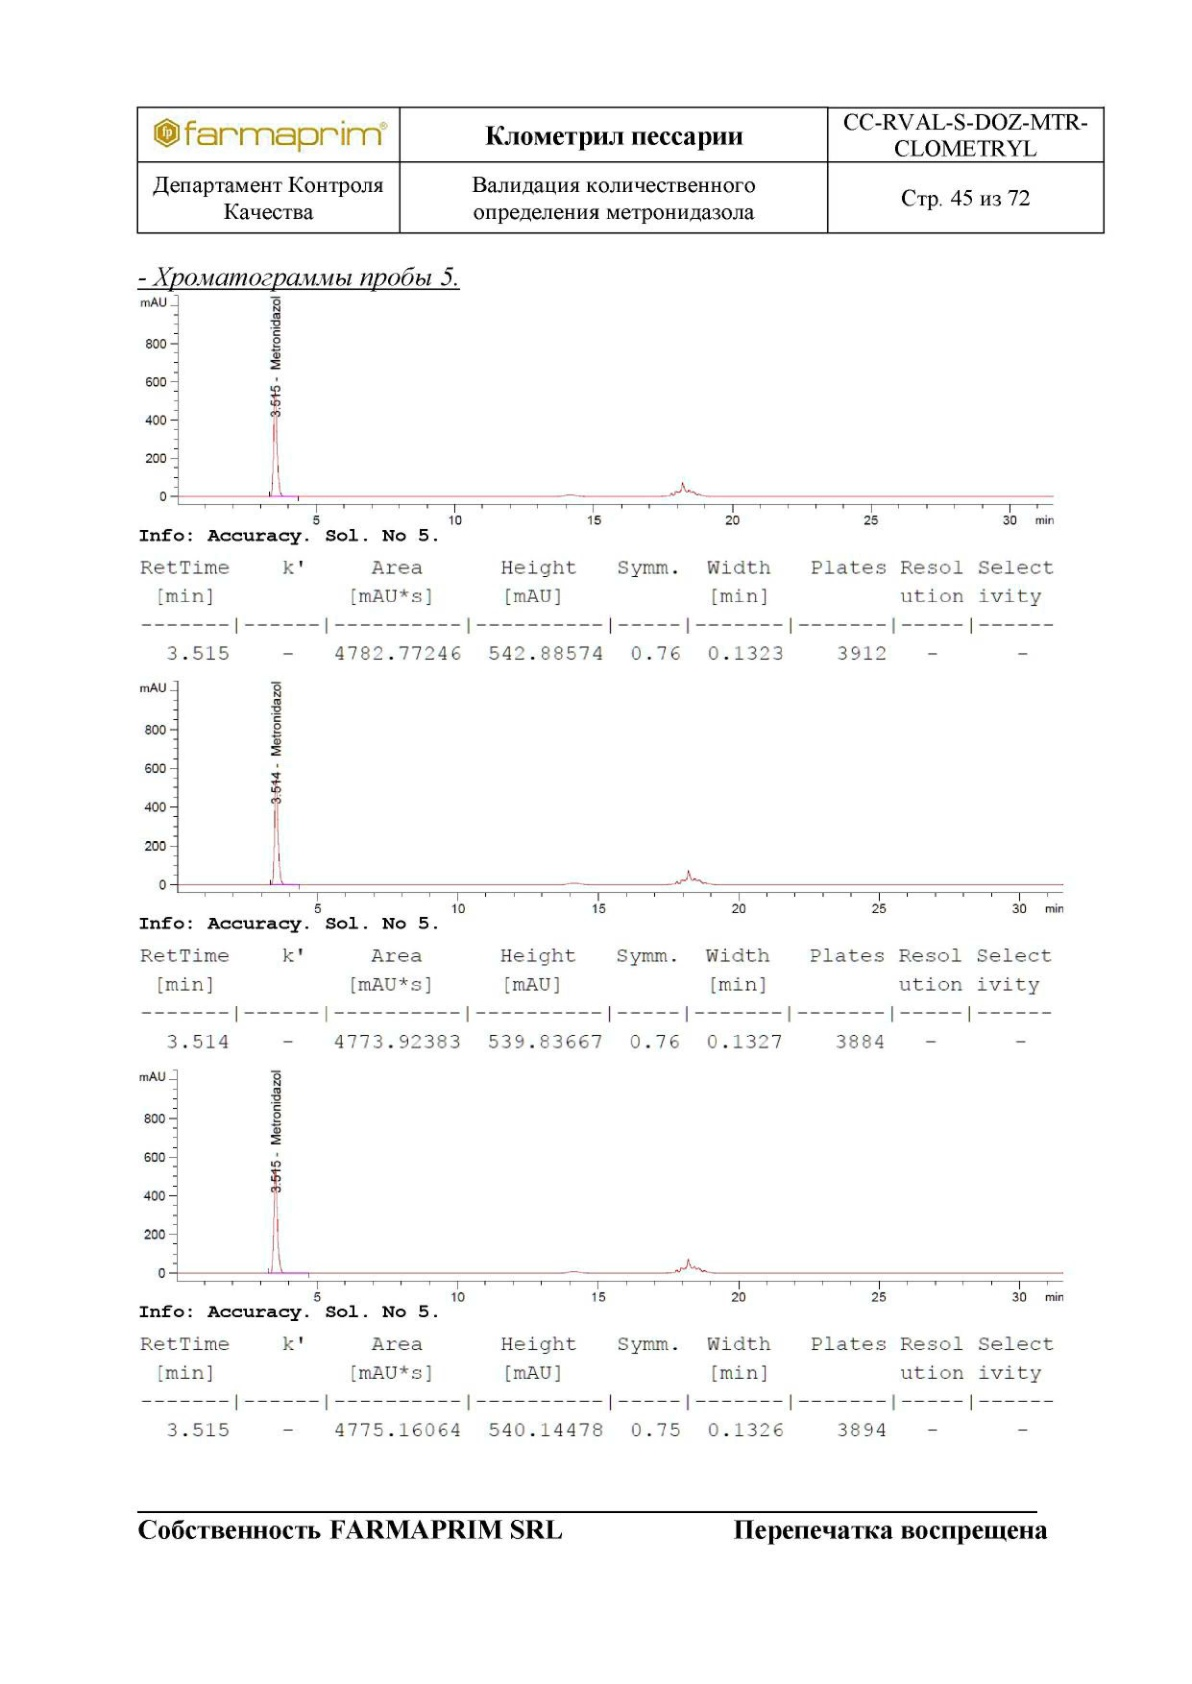full_lined: (135, 106, 1106, 235)
partial_lined: (135, 1331, 1059, 1460), (135, 556, 1060, 672), (135, 944, 1059, 1059)
